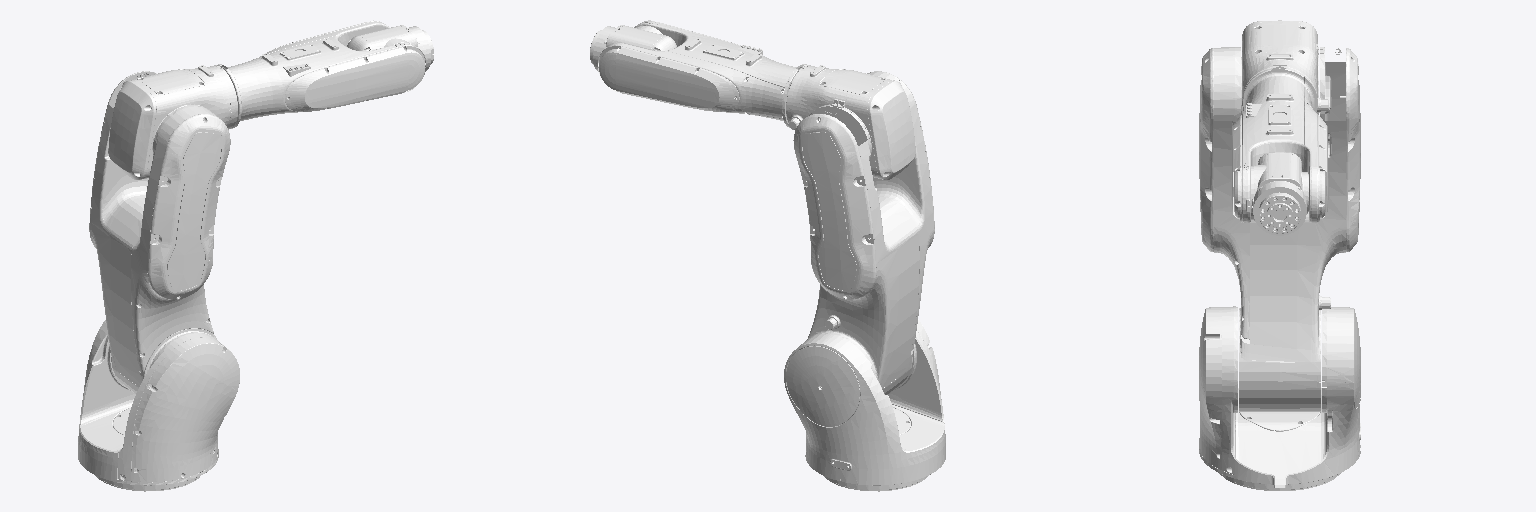
The robot description file, URDF, robot "hak_robot":
<?xml version="1.0" encoding="utf-8" ?>
<!-- This URDF was automatically created by SolidWorks to URDF Exporter! Originally created by Stephen Brawner (brawner@gmail.com) 
     Commit Version: 1.6.0-4-g7f85cfe  Build Version: 1.6.7995.38578
     For more information, please see http://wiki.ros.org/sw_urdf_exporter -->
<robot name="hak_robot">
    <link name="base_link">
        <inertial>
            <origin xyz="-0.0240911354644466 -5.83268353705106E-05 0.0926994713294401" rpy="0 0 0" />
            <mass value="9.62014898919541" />
            <inertia ixx="0.0575442533822869" ixy="3.09831520459753E-06" ixz="-0.000101176749175349" iyy="0.0789408978568829" iyz="-1.92951434916642E-05" izz="0.0830868149708986" />
        </inertial>
        <visual>
            <origin xyz="0 0 0" rpy="0 0 0" />
            <geometry>
                <mesh filename="package://hak_robot/meshes/base_link.STL" />
            </geometry>
            <material name="">
                <color rgba="1 1 1 1" />
            </material>
        </visual>
        <collision>
            <origin xyz="0 0 0" rpy="0 0 0" />
            <geometry>
                <mesh filename="package://hak_robot/meshes/base_link.STL" />
            </geometry>
        </collision>
    </link>
    <link name="link1">
        <inertial>
            <origin xyz="0.0135514992161213 0.0133449261956699 0.0811768075080785" rpy="0 0 0" />
            <mass value="4.16238993718028" />
            <inertia ixx="0.0316424140253284" ixy="-0.00168560732042343" ixz="-0.00404622177824349" iyy="0.0324038813905126" iyz="-0.00843295927887208" izz="0.0212652144826027" />
        </inertial>
        <visual>
            <origin xyz="0 0 0" rpy="0 0 0" />
            <geometry>
                <mesh filename="package://hak_robot/meshes/link1.STL" />
            </geometry>
            <material name="">
                <color rgba="1 1 1 1" />
            </material>
        </visual>
        <collision>
            <origin xyz="0 0 0" rpy="0 0 0" />
            <geometry>
                <mesh filename="package://hak_robot/meshes/link1.STL" />
            </geometry>
        </collision>
    </link>
    <joint name="joint1" type="revolute">
        <origin xyz="0 0 0.184" rpy="0 0 0" />
        <parent link="base_link" />
        <child link="link1" />
        <axis xyz="0 0 1" />
        <limit lower="-2.697" upper="2.697" effort="100" velocity="5.759" />
    </joint>
    <link name="link2">
        <inertial>
            <origin xyz="-0.0196245283863793 0.184886439994691 0.0626469399905923" rpy="0 0 0" />
            <mass value="9.30413334251082" />
            <inertia ixx="0.176521085367141" ixy="0.00305691275553169" ixz="-0.000550101621270848" iyy="0.0289143399655914" iyz="0.0217589239814347" izz="0.178546329293958" />
        </inertial>
        <visual>
            <origin xyz="0 0 0" rpy="0 0 0" />
            <geometry>
                <mesh filename="package://hak_robot/meshes/link2.STL" />
            </geometry>
            <material name="">
                <color rgba="1 1 1 1" />
            </material>
        </visual>
        <collision>
            <origin xyz="0 0 0" rpy="0 0 0" />
            <geometry>
                <mesh filename="package://hak_robot/meshes/link2.STL" />
            </geometry>
        </collision>
    </link>
    <joint name="joint2" type="revolute">
        <origin xyz="0.040001 0.063 0.169" rpy="1.5708 0 0" />
        <parent link="link1" />
        <child link="link2" />
        <axis xyz="0 0 1" />
        <limit lower="-2.391" upper="1.606" effort="100" velocity="4.625" />
    </joint>
    <link name="link3">
        <inertial>
            <origin xyz="0.00945210188615451 0.0100938603855308 0.0614669440841849" rpy="0 0 0" />
            <mass value="2.77288234473681" />
            <inertia ixx="0.00769276898951054" ixy="-0.00124378390113676" ixz="0.000140303258501715" iyy="0.00915324271004037" iyz="9.56389680421576E-05" izz="0.0101512971449236" />
        </inertial>
        <visual>
            <origin xyz="0 0 0" rpy="0 0 0" />
            <geometry>
                <mesh filename="package://hak_robot/meshes/link3.STL" />
            </geometry>
            <material name="">
                <color rgba="1 1 1 1" />
            </material>
        </visual>
        <collision>
            <origin xyz="0 0 0" rpy="0 0 0" />
            <geometry>
                <mesh filename="package://hak_robot/meshes/link3.STL" />
            </geometry>
        </collision>
    </link>
    <joint name="joint3" type="revolute">
        <origin xyz="0 0.44001 0.005" rpy="0 0 0" />
        <parent link="link2" />
        <child link="link3" />
        <axis xyz="0 0 1" />
        <limit lower="-1.309" upper="3.665" effort="100" velocity="6.195" />
    </joint>
    <link name="link4">
        <inertial>
            <origin xyz="-0.000267685369762405 -1.31817184425867E-05 0.149328083580004" rpy="0 0 0" />
            <mass value="2.63078855241547" />
            <inertia ixx="0.0187988618804413" ixy="9.964518494357E-07" ixz="8.4029626116062E-06" iyy="0.0189997730046198" iyz="0.00102096872763372" izz="0.00306981351090355" />
        </inertial>
        <visual>
            <origin xyz="0 0 0" rpy="0 0 0" />
            <geometry>
                <mesh filename="package://hak_robot/meshes/link4.STL" />
            </geometry>
            <material name="">
                <color rgba="1 1 1 1" />
            </material>
        </visual>
        <collision>
            <origin xyz="0 0 0" rpy="0 0 0" />
            <geometry>
                <mesh filename="package://hak_robot/meshes/link4.STL" />
            </geometry>
        </collision>
    </link>
    <joint name="joint4" type="revolute">
        <origin xyz="0.1065 0.032491 0.058" rpy="-1.5708 0 -1.5708" />
        <parent link="link3" />
        <child link="link4" />
        <axis xyz="0 0 1" />
        <limit lower="-3.491" upper="3.491" effort="100" velocity="7.679" />
    </joint>
    <link name="link5">
        <inertial>
            <origin xyz="3.65714911787496E-06 0.00574852068385584 -0.0380752001850429" rpy="0 0 0" />
            <mass value="0.744625128775432" />
            <inertia ixx="0.00106633972225257" ixy="-9.97399009113836E-09" ixz="-2.12723117377069E-08" iyy="0.000823697573772714" iyz="5.79578062976453E-06" izz="0.00100951988524073" />
        </inertial>
        <visual>
            <origin xyz="0 0 0" rpy="0 0 0" />
            <geometry>
                <mesh filename="package://hak_robot/meshes/link5.STL" />
            </geometry>
            <material name="">
                <color rgba="1 1 1 1" />
            </material>
        </visual>
        <collision>
            <origin xyz="0 0 0" rpy="0 0 0" />
            <geometry>
                <mesh filename="package://hak_robot/meshes/link5.STL" />
            </geometry>
        </collision>
    </link>
    <joint name="joint5" type="revolute">
        <origin xyz="0 -0.039 0.3225" rpy="1.5708 0 0" />
        <parent link="link4" />
        <child link="link5" />
        <axis xyz="0 0 1" />
        <limit lower="-2.269" upper="2.269" effort="100" velocity="7.854" />
    </joint>
    <link name="hkrobot">
        <inertial>
            <origin xyz="2.59105466068332E-05 0.00016467152162812 0.00809711053411466" rpy="0 0 0" />
            <mass value="0.0250254288937889" />
            <inertia ixx="6.82453249122362E-06" ixy="1.07394209847228E-10" ixz="-2.95181073150039E-09" iyy="6.93799170565175E-06" iyz="-2.10757909903554E-09" izz="1.31737499655798E-05" />
        </inertial>
        <visual>
            <origin xyz="0 0 0" rpy="0 0 0" />
            <geometry>
                <mesh filename="package://hak_robot/meshes/hkrobot.STL" />
            </geometry>
            <material name="">
                <color rgba="1 1 1 1" />
            </material>
        </visual>
        <collision>
            <origin xyz="0 0 0" rpy="0 0 0" />
            <geometry>
                <mesh filename="package://hak_robot/meshes/hkrobot.STL" />
            </geometry>
        </collision>
    </link>
    <joint name="j_hkrobot" type="revolute">
        <origin xyz="0 0.064 -0.039" rpy="-1.5708 0 0" />
        <parent link="link5" />
        <child link="hkrobot" />
        <axis xyz="0 0 1" />
        <limit lower="-6.28" upper="6.28" effort="100" velocity="12.217" />
    </joint>
    <transmission name="trans_joint1">
        <type>transmission_interface/SimpleTransmission</type>
        <joint name="joint1">
            <hardwareInterface>hardware_interface/EffortJointInterface</hardwareInterface>
        </joint>
        <actuator name="joint1_motor">
            <hardwareInterface>hardware_interface/EffortJointInterface</hardwareInterface>
            <mechanicalReduction>1</mechanicalReduction>
        </actuator>
    </transmission>
    <transmission name="trans_joint2">
        <type>transmission_interface/SimpleTransmission</type>
        <joint name="joint2">
            <hardwareInterface>hardware_interface/EffortJointInterface</hardwareInterface>
        </joint>
        <actuator name="joint2_motor">
            <hardwareInterface>hardware_interface/EffortJointInterface</hardwareInterface>
            <mechanicalReduction>1</mechanicalReduction>
        </actuator>
    </transmission>
    <transmission name="trans_joint3">
        <type>transmission_interface/SimpleTransmission</type>
        <joint name="joint3">
            <hardwareInterface>hardware_interface/EffortJointInterface</hardwareInterface>
        </joint>
        <actuator name="joint3_motor">
            <hardwareInterface>hardware_interface/EffortJointInterface</hardwareInterface>
            <mechanicalReduction>1</mechanicalReduction>
        </actuator>
    </transmission>
    <transmission name="trans_joint4">
        <type>transmission_interface/SimpleTransmission</type>
        <joint name="joint4">
            <hardwareInterface>hardware_interface/EffortJointInterface</hardwareInterface>
        </joint>
        <actuator name="joint4_motor">
            <hardwareInterface>hardware_interface/EffortJointInterface</hardwareInterface>
            <mechanicalReduction>1</mechanicalReduction>
        </actuator>
    </transmission>
    <transmission name="trans_joint5">
        <type>transmission_interface/SimpleTransmission</type>
        <joint name="joint5">
            <hardwareInterface>hardware_interface/EffortJointInterface</hardwareInterface>
        </joint>
        <actuator name="joint5_motor">
            <hardwareInterface>hardware_interface/EffortJointInterface</hardwareInterface>
            <mechanicalReduction>1</mechanicalReduction>
        </actuator>
    </transmission>
    <transmission name="trans_j_hkrobot">
        <type>transmission_interface/SimpleTransmission</type>
        <joint name="j_hkrobot">
            <hardwareInterface>hardware_interface/EffortJointInterface</hardwareInterface>
        </joint>
        <actuator name="j_hkrobot_motor">
            <hardwareInterface>hardware_interface/EffortJointInterface</hardwareInterface>
            <mechanicalReduction>1</mechanicalReduction>
        </actuator>
    </transmission>
    <gazebo>
        <plugin name="gazebo_ros_control" filename="libgazebo_ros_control.so">
            <robotNamespace>/</robotNamespace>
        </plugin>
    </gazebo>
</robot>

--- Facts derived from the render (not from the file) ---
The picture shows the robot from 3 angles, left to right: view 1: azimuth 30°, elevation 25°; view 2: azimuth 150°, elevation 25°; view 3: azimuth 270°, elevation 25°; orthographic projection.
Robot: hak_robot — 7 links, 6 joints (6 revolute); root link base_link; default pose: every joint at zero.
Links seen in each view (by area): view 1: link2, link1, link4, link3, link5; view 2: link2, link1, link4, link3, link5; view 3: link2, link1, link4, link3, link5, hkrobot.
Boxes of the visible links, x1,y1,x2,y2 form: link2: (89, 71, 230, 393); link1: (78, 320, 239, 491); link4: (217, 20, 425, 128); link3: (108, 65, 237, 179); link5: (347, 25, 430, 70); link2: (793, 71, 934, 394); link1: (784, 319, 945, 491); link4: (598, 20, 806, 127); link3: (786, 65, 915, 179); link5: (593, 25, 676, 71); link2: (1199, 47, 1360, 411); link1: (1199, 306, 1360, 490); link4: (1231, 68, 1328, 222); link3: (1241, 20, 1328, 114); link5: (1251, 152, 1308, 235); hkrobot: (1259, 192, 1300, 233).
Size in the robot's own frame: 0.6689 by 0.2411 by 0.721 metres.
Meshes: 7 distinct files referenced, 6 mesh visuals loaded (6 binary STL); not drawn: 1 (reference not matched to a file when rendering).
